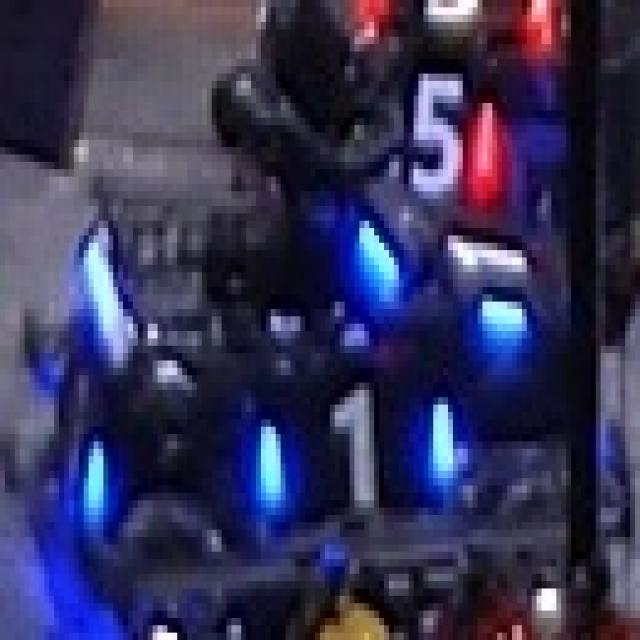B1: (241, 368, 473, 508), (20, 346, 118, 559), (428, 206, 562, 331)
R5: (399, 66, 497, 199)
